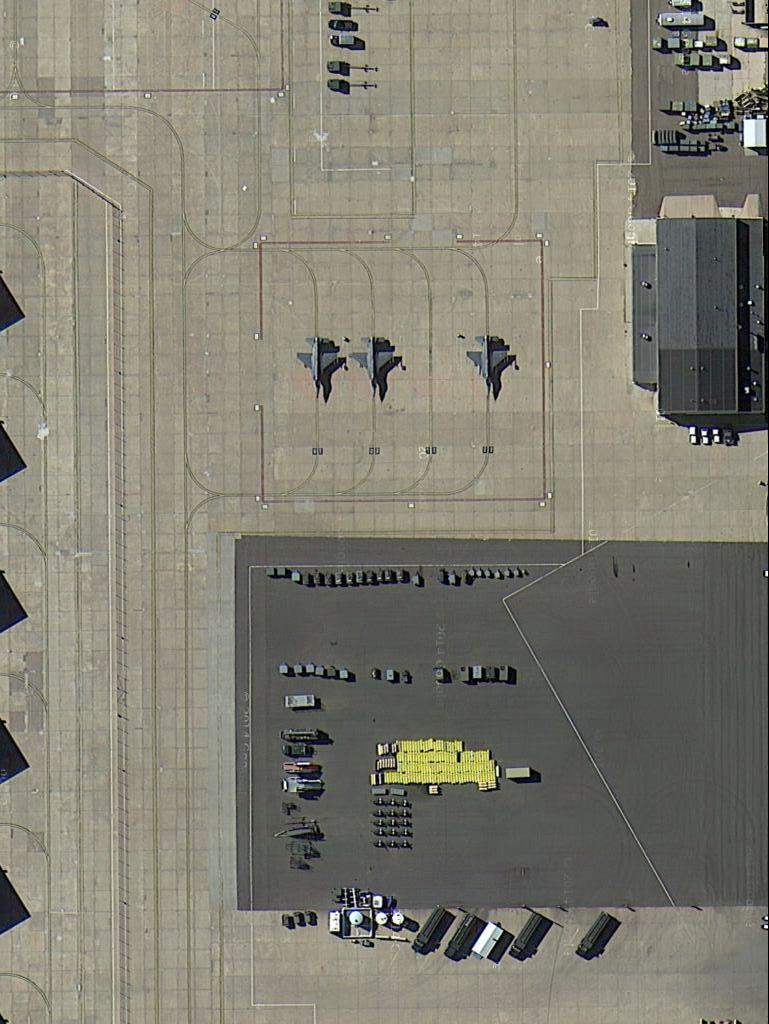F-16: (292, 331, 347, 397), (347, 326, 398, 394), (461, 328, 513, 391)
